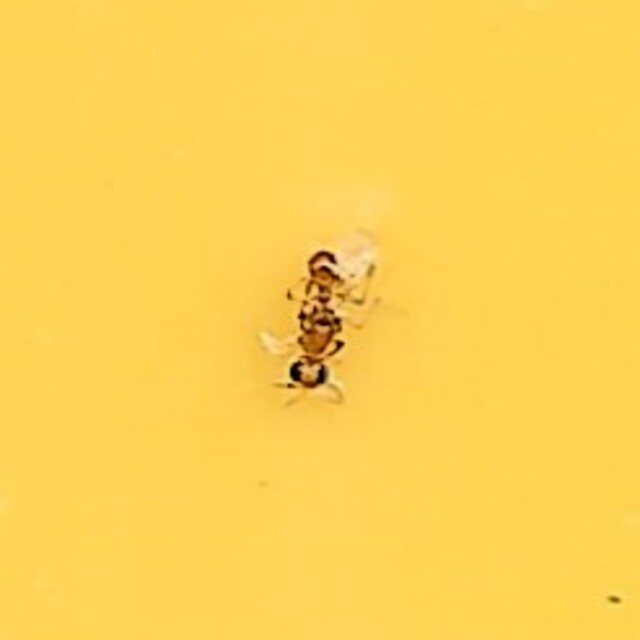Hymenoptera: (259, 231, 381, 409)
